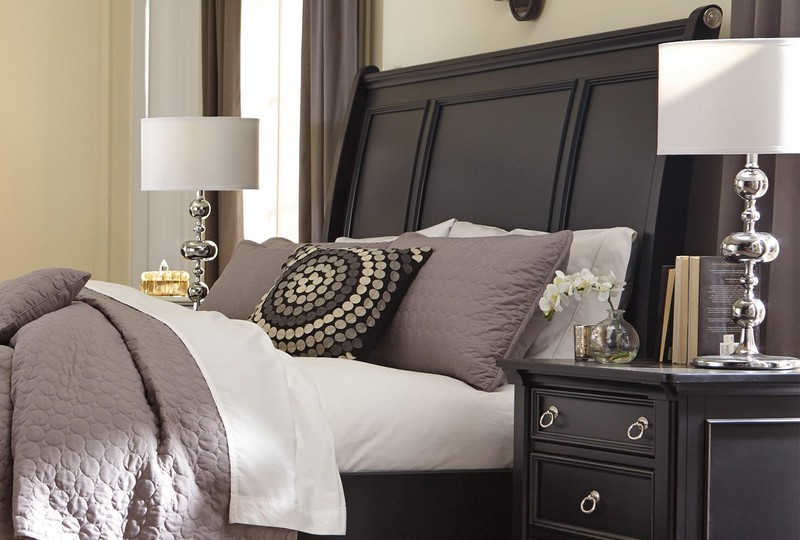bed: (15, 4, 719, 536)
lamp: (658, 37, 799, 374), (137, 115, 262, 298)
stool: (491, 357, 800, 537)
